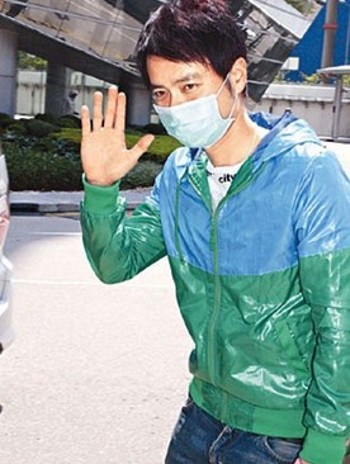face_mask: (149, 43, 225, 149)
